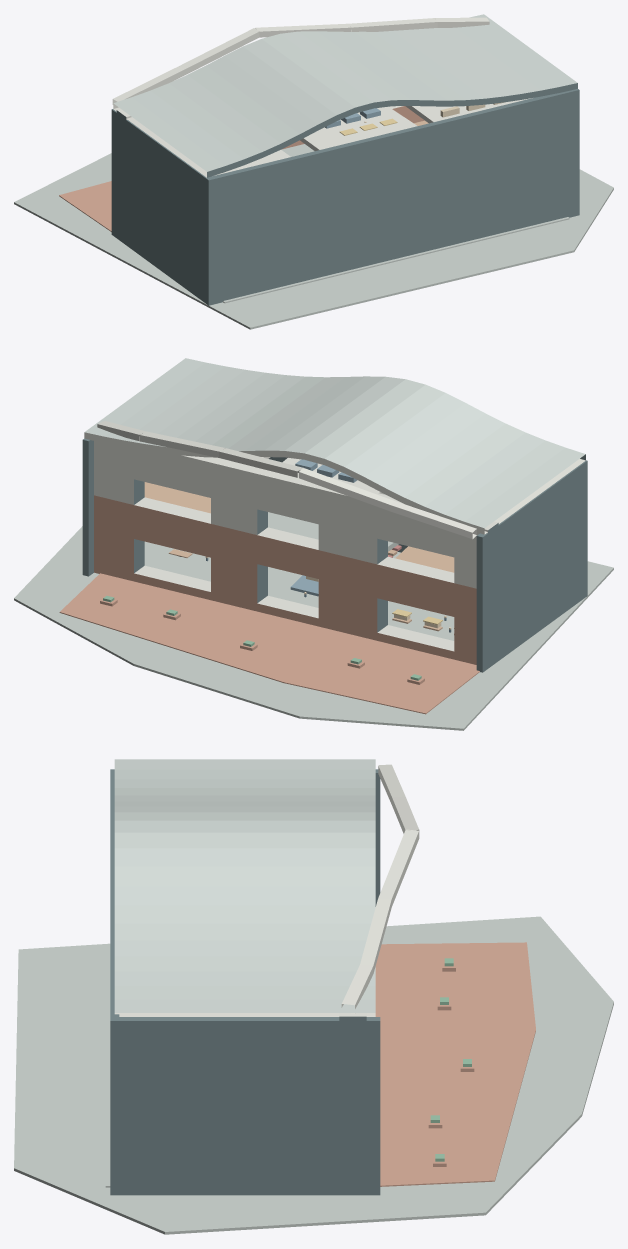
File: a46_open_frontage.glb
3 renders of one model, top to bottom at view 1: azimuth 30°, elevation 25°; view 2: azimuth 150°, elevation 25°; view 3: azimuth 270°, elevation 25°, orthographic. The views are drawn at different scales.
Size of the model in its own units: 163 by 54.69 by 131.
